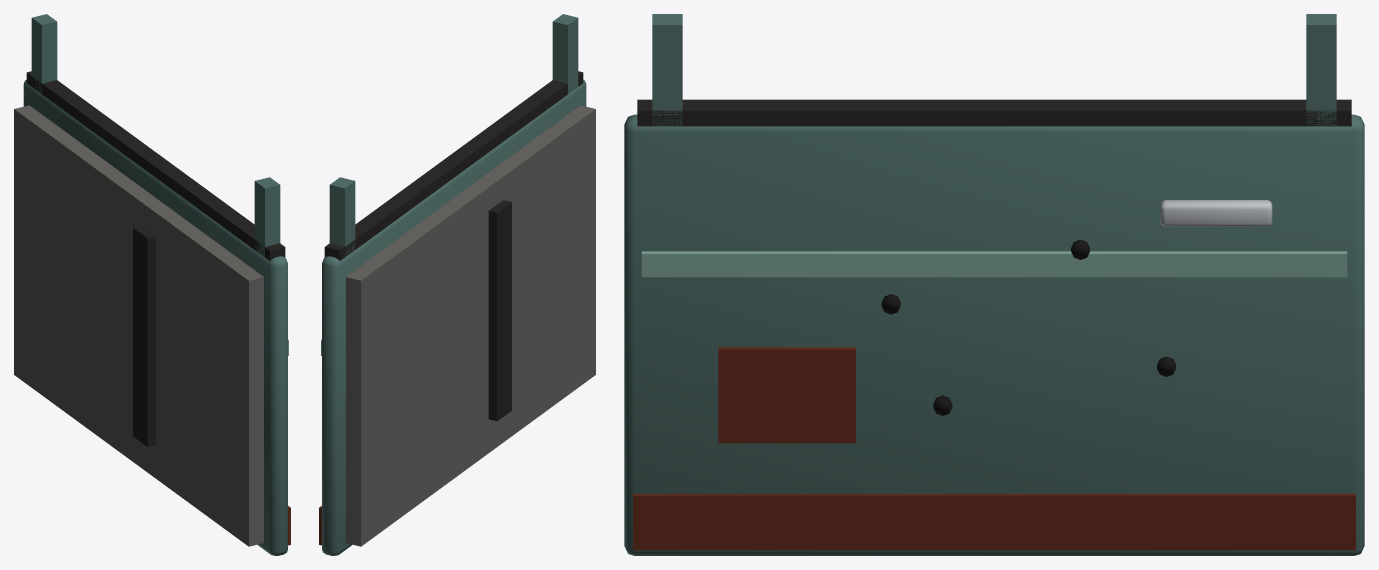
Rendered from held_car_door.glb.
3 views of the same model, side by side, from view 1: azimuth 30°, elevation 25°; view 2: azimuth 150°, elevation 25°; view 3: azimuth 270°, elevation 25° (orthographic). The views are drawn at different scales.
Parts seen in each view (by area): view 1: inside, skin, seal, strap, stub_-1, stub_1; view 2: inside, skin, seal, strap, stub_-1, stub_1; view 3: skin, seam_rust, seal, crease, rust_patch, stub_1, stub_-1, handle.
Boxes of the visible parts, x1=… form: inside: x1=14, y1=105, x2=263, y2=546; skin: x1=23, y1=80, x2=287, y2=555; seal: x1=26, y1=71, x2=285, y2=260; strap: x1=133, y1=226, x2=156, y2=446; stub_-1: x1=254, y1=177, x2=280, y2=257; stub_1: x1=31, y1=14, x2=57, y2=93; inside: x1=346, y1=105, x2=595, y2=546; skin: x1=322, y1=80, x2=586, y2=555; seal: x1=324, y1=71, x2=583, y2=260; strap: x1=488, y1=200, x2=511, y2=421; stub_-1: x1=552, y1=14, x2=578, y2=93; stub_1: x1=329, y1=177, x2=355, y2=257; skin: x1=624, y1=114, x2=1364, y2=555; seam_rust: x1=633, y1=493, x2=1355, y2=550; seal: x1=637, y1=99, x2=1351, y2=126; crease: x1=641, y1=251, x2=1347, y2=277; rust_patch: x1=718, y1=347, x2=855, y2=443; stub_1: x1=1306, y1=14, x2=1336, y2=126; stub_-1: x1=652, y1=14, x2=682, y2=126; handle: x1=1160, y1=200, x2=1272, y2=226.
Bounding box in the file's own units: 0.1 × 0.685 × 0.86.
